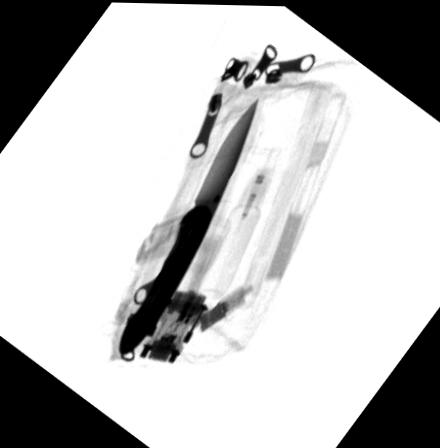Knife: (116, 91, 260, 359)
